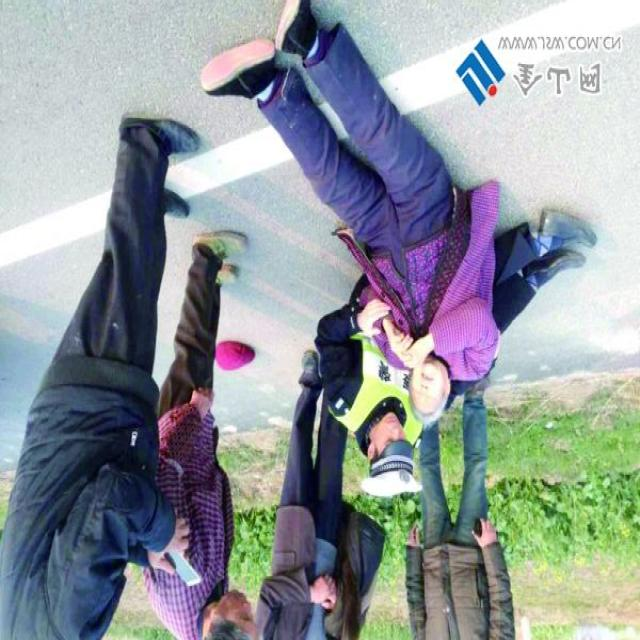nofight: (2, 96, 201, 640), (131, 238, 262, 640), (395, 31, 493, 424), (402, 383, 526, 640), (264, 368, 366, 640), (314, 326, 424, 500)
